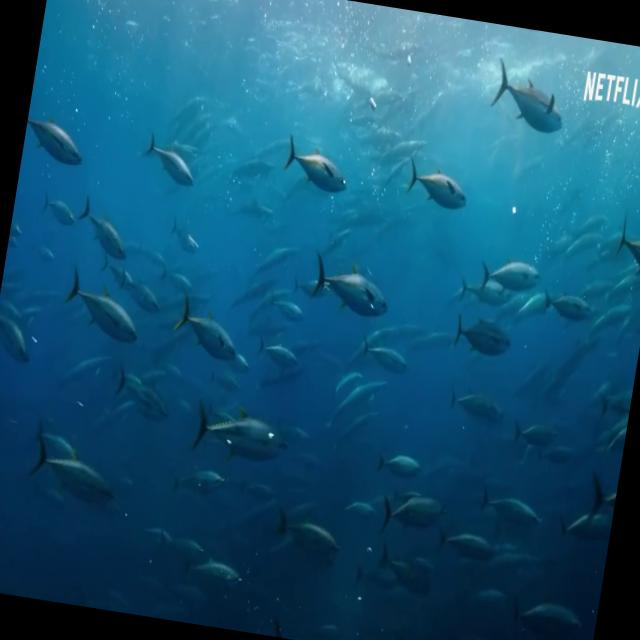fish: (482, 57, 582, 151), (18, 430, 126, 517), (180, 396, 303, 472), (254, 494, 354, 580), (268, 120, 358, 206), (56, 276, 151, 356), (304, 252, 402, 326), (469, 472, 555, 550), (132, 116, 210, 196), (170, 298, 247, 377), (400, 148, 483, 218), (20, 99, 91, 177), (370, 475, 454, 539), (501, 581, 583, 640), (107, 368, 182, 432), (428, 514, 505, 575), (446, 310, 525, 364), (72, 197, 136, 261), (476, 244, 550, 299), (356, 329, 421, 390), (558, 494, 615, 560), (185, 546, 252, 600), (596, 208, 640, 287), (247, 326, 308, 377), (0, 297, 43, 366), (157, 212, 215, 262), (458, 273, 522, 318), (444, 382, 508, 424), (375, 442, 430, 489), (262, 285, 314, 334), (508, 409, 562, 456), (540, 281, 596, 326), (36, 179, 81, 234), (582, 466, 620, 528)
